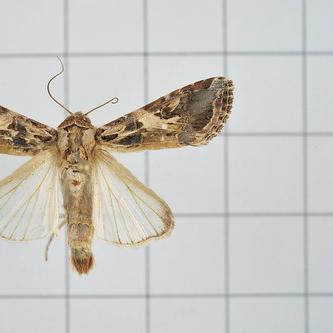Spodoptera litura: (1, 55, 235, 278)
